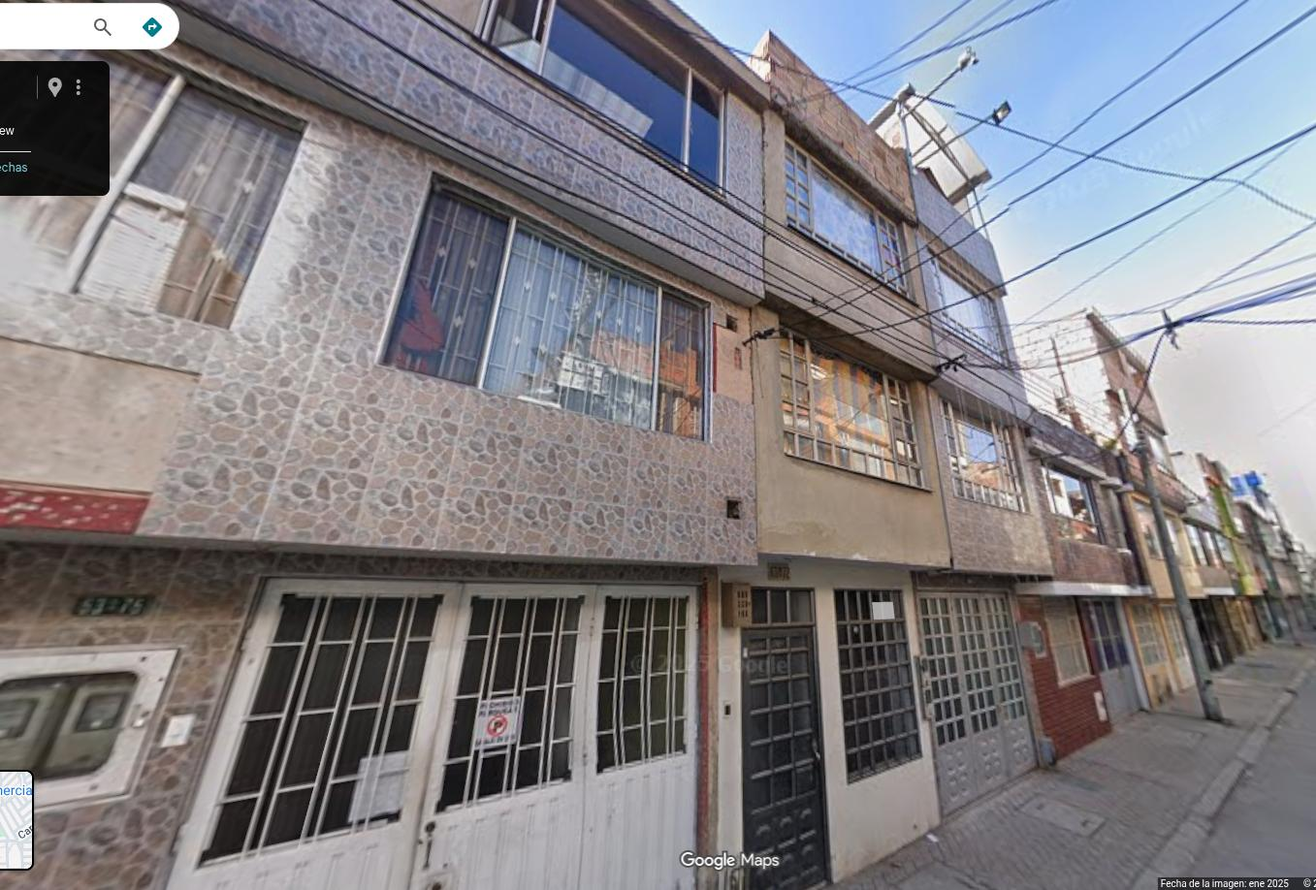casa: (0, 0, 771, 889), (714, 32, 949, 889), (868, 85, 1052, 814), (1016, 416, 1146, 754)
poste: (1121, 334, 1223, 722)
